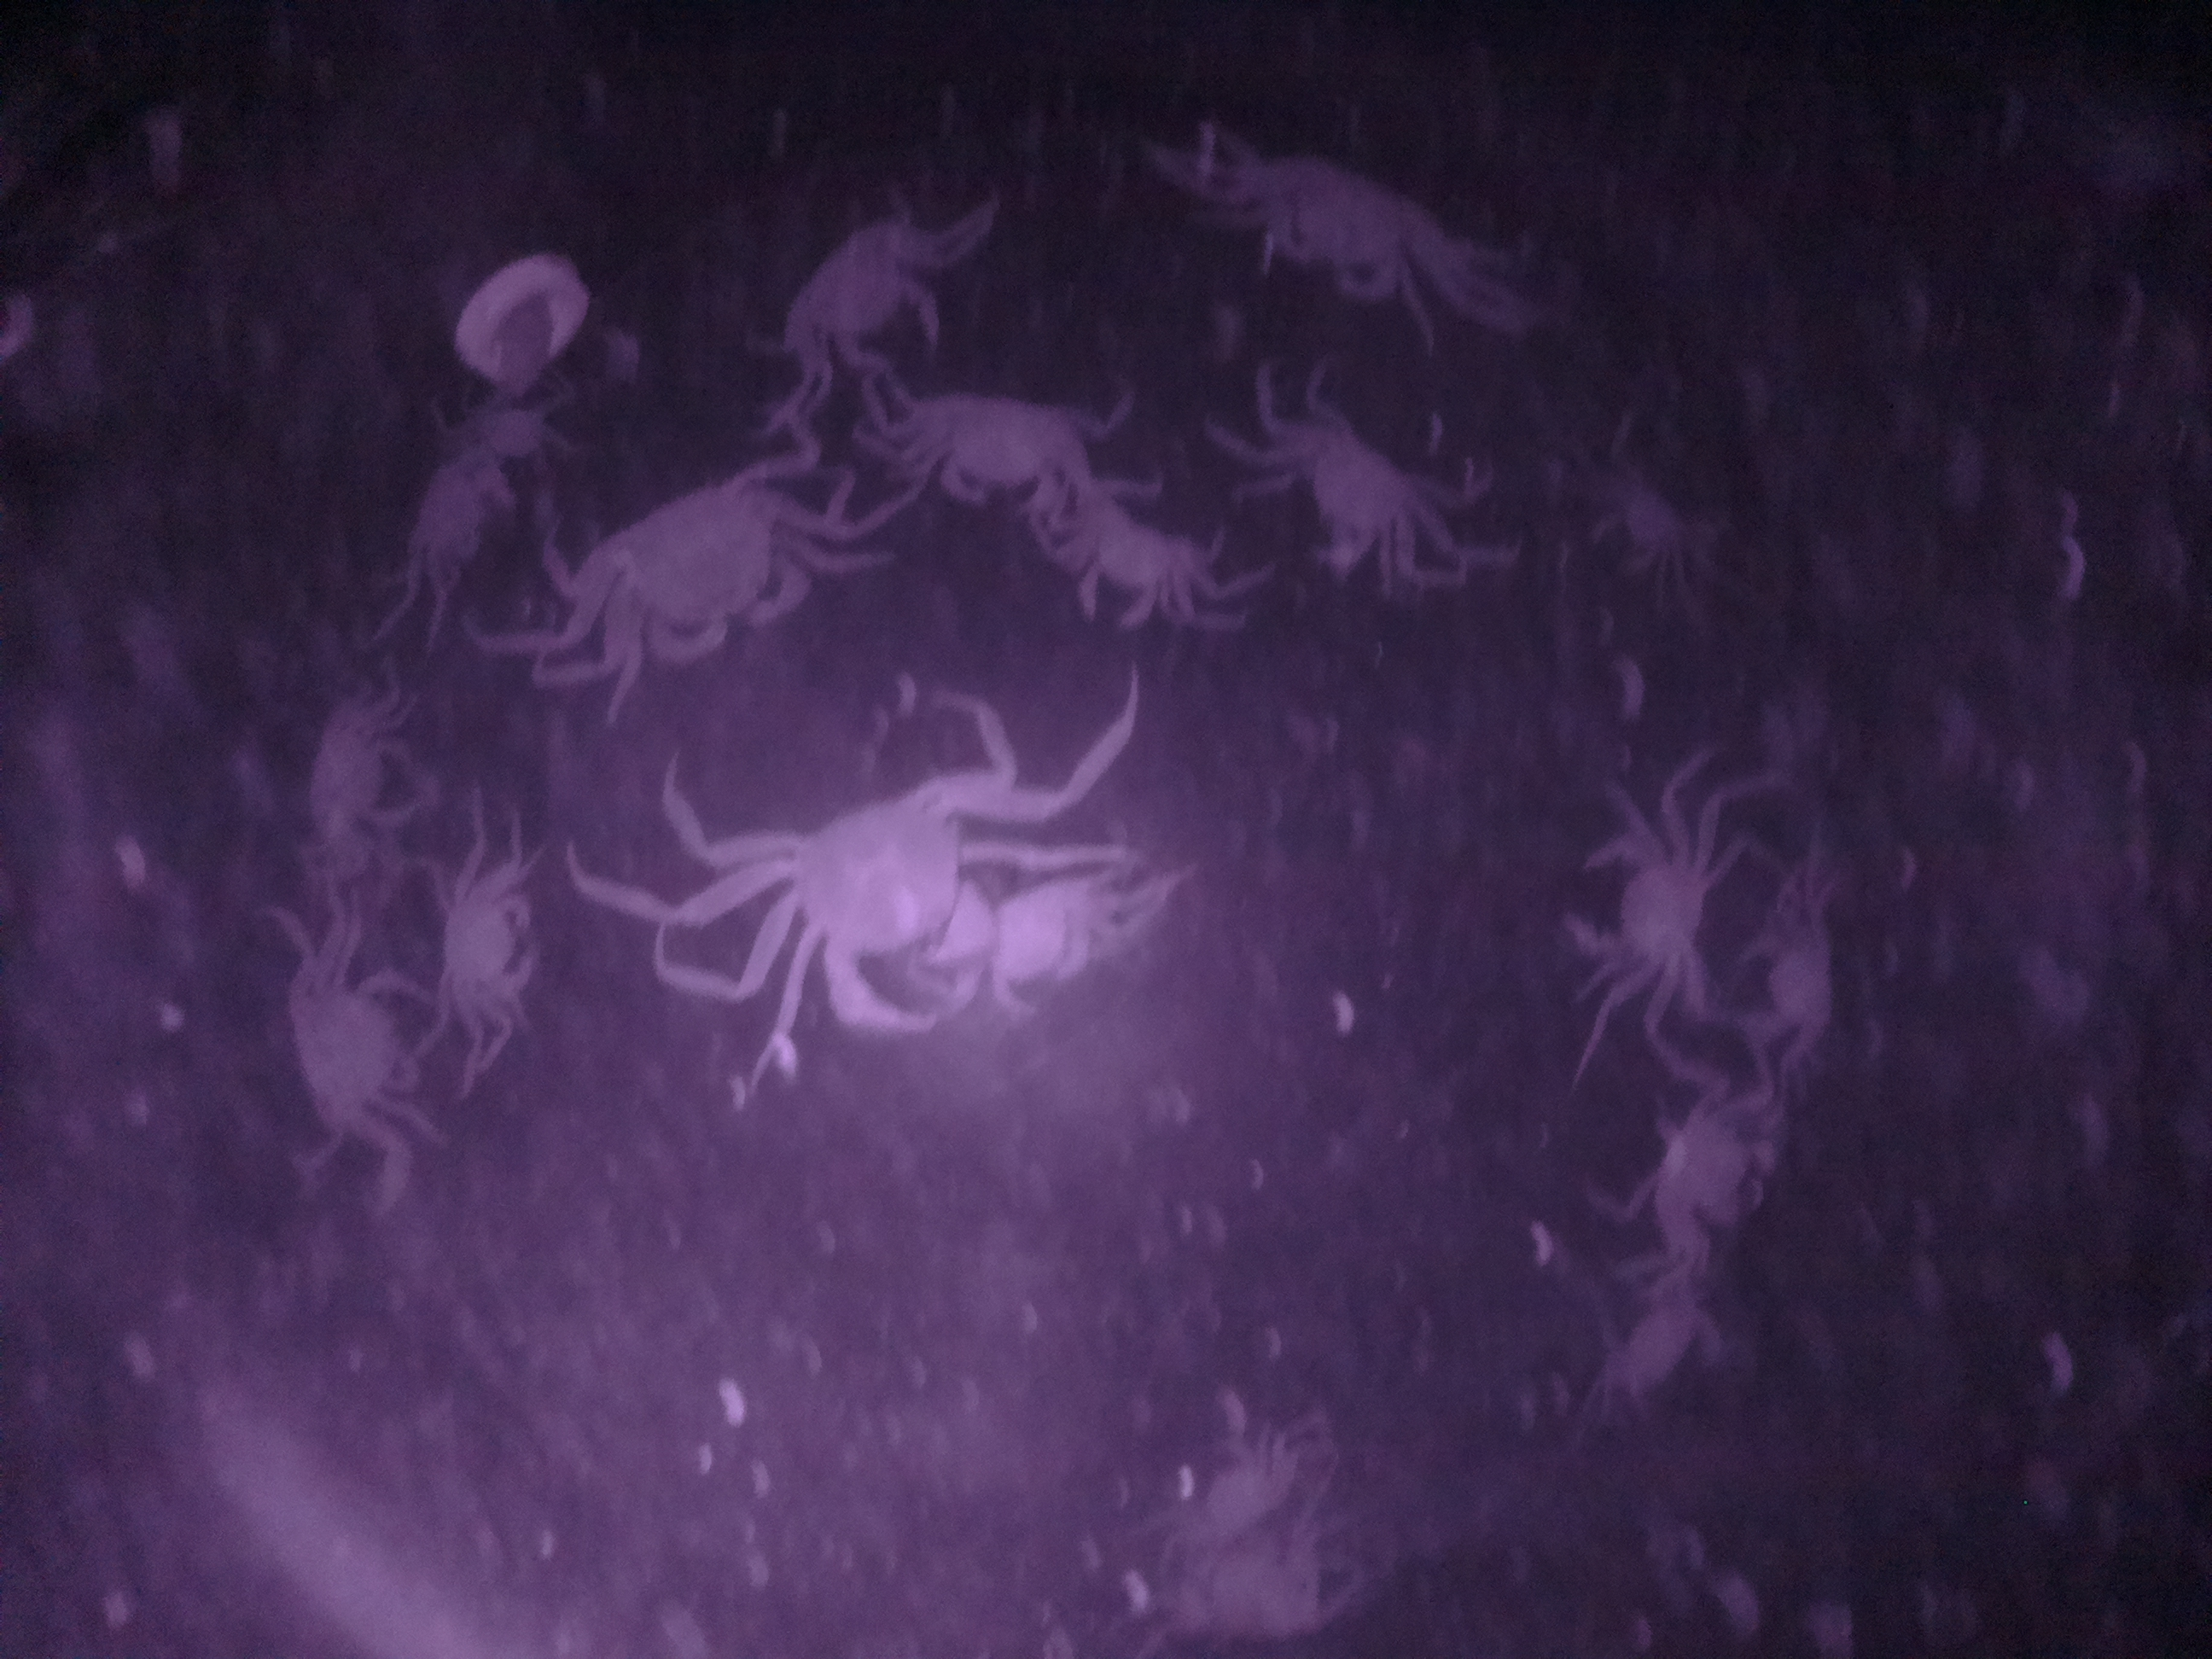Crab: (752, 769, 1019, 1065), (566, 458, 824, 688), (1616, 1073, 1803, 1277), (1552, 807, 1735, 1004), (1270, 397, 1446, 596), (761, 228, 956, 376), (885, 382, 1096, 516), (279, 943, 420, 1141), (284, 701, 446, 856), (413, 854, 550, 1028), (1049, 498, 1211, 636)
